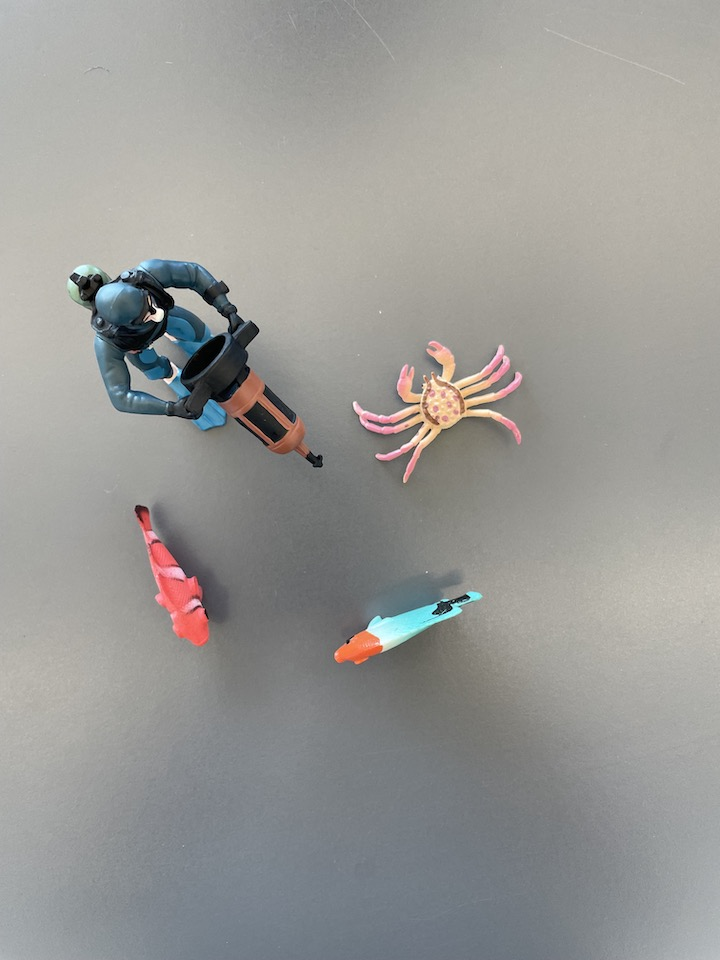crab: (347, 337, 531, 488)
diver: (62, 254, 330, 474)
fish: (127, 499, 220, 654), (333, 587, 486, 669)
